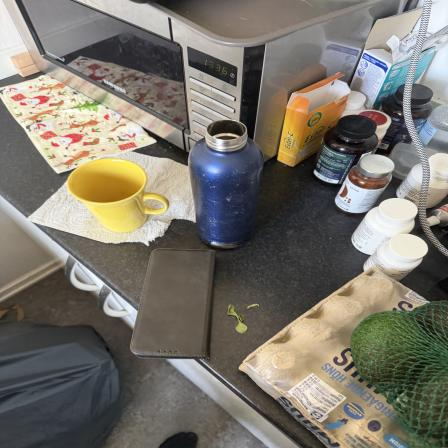blue_bottle: (189, 120, 267, 250)
phone: (131, 244, 216, 360)
yellow_cup: (71, 158, 169, 234)
